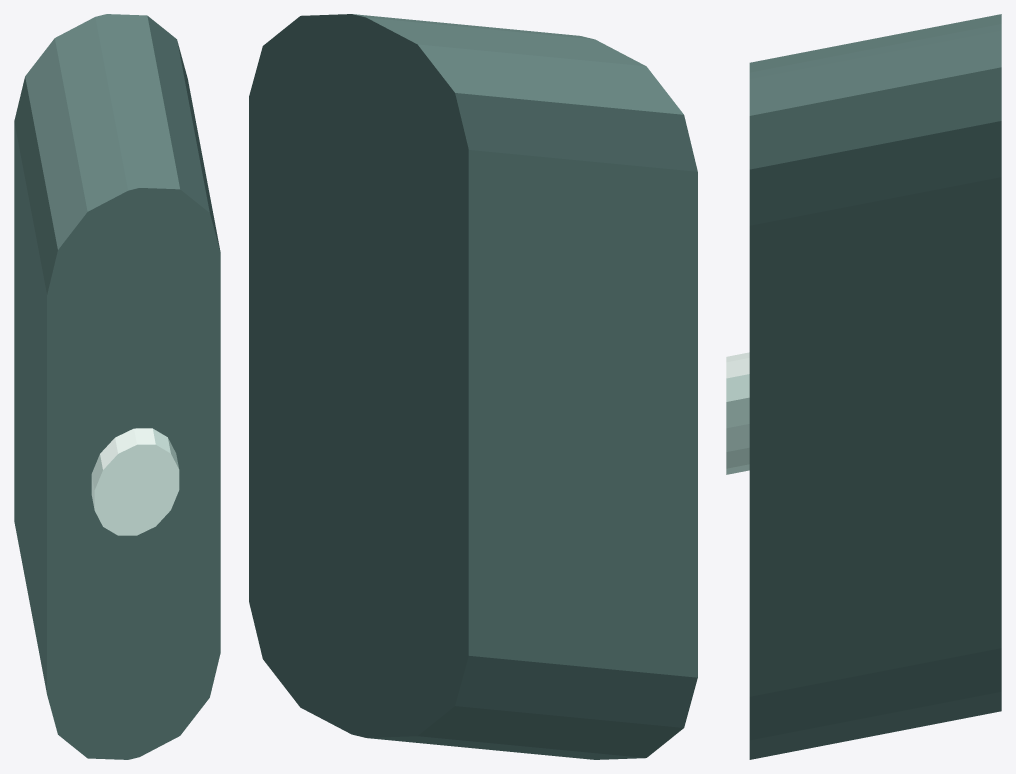
Rendered from Edge_Shutter.gltf.
3 views of the same model, side by side, from view 1: azimuth 30°, elevation 25°; view 2: azimuth 150°, elevation 25°; view 3: azimuth 270°, elevation 25° (orthographic). The views are drawn at different scales.
Parts seen in each view (by area): view 1: Edge_Shutter_baked; view 2: Edge_Shutter_baked; view 3: Edge_Shutter_baked.
Part boxes in pixels (<box>): Edge_Shutter_baked: <box>14,14,220,759</box>; Edge_Shutter_baked: <box>249,14,697,759</box>; Edge_Shutter_baked: <box>726,14,1001,759</box>.
Bounding box in the file's own units: 0.428 × 1.07 × 0.35.
